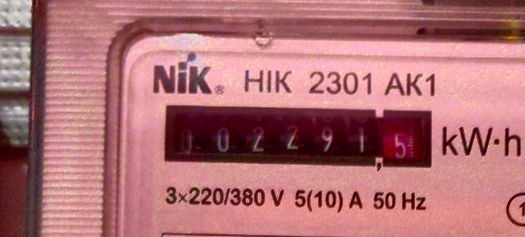0: (176, 123, 194, 152), (214, 123, 230, 152)
1: (353, 121, 367, 155)
2: (249, 123, 265, 152), (284, 121, 298, 150)
5: (391, 128, 407, 158)
9: (318, 122, 334, 152)
screen: (159, 97, 436, 174)
